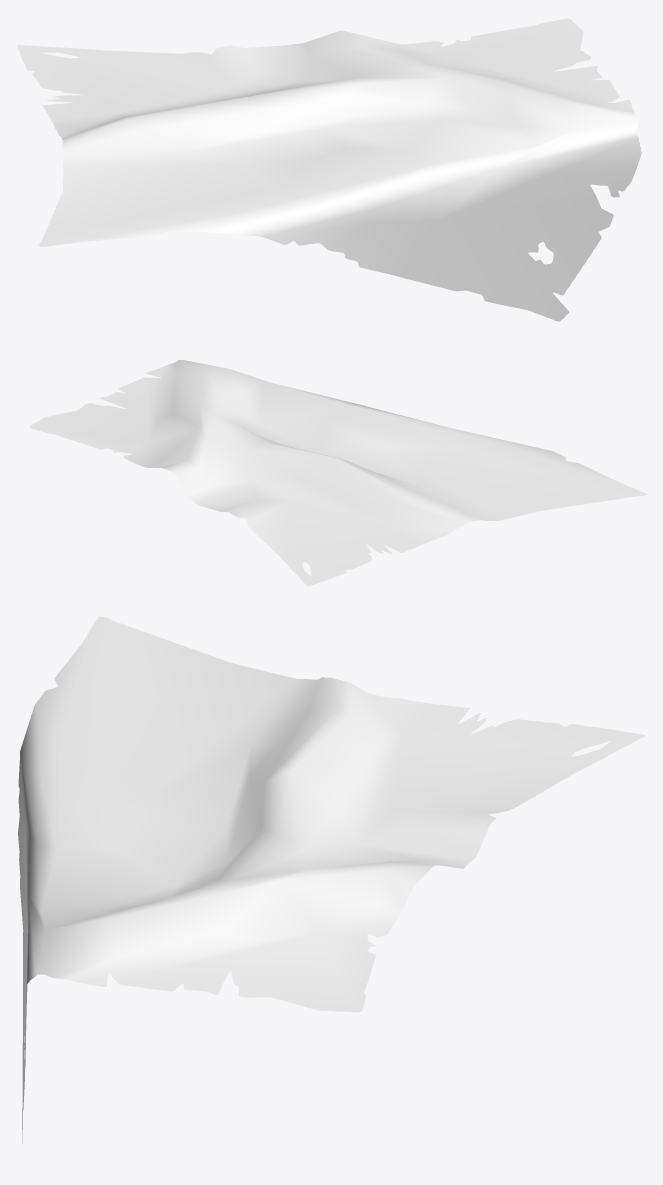
File: SM_Prop_Cover_01.fbx
3 renders of one model, top to bottom at view 1: azimuth 30°, elevation 25°; view 2: azimuth 150°, elevation 25°; view 3: azimuth 270°, elevation 25°, orthographic. The views are drawn at different scales.
Parts seen in each view (by area): view 1: SM_Prop_Cover_01; view 2: SM_Prop_Cover_01; view 3: SM_Prop_Cover_01.
Boxes of the visible parts, x1,y1,x2,y2 form: SM_Prop_Cover_01: [17, 18, 641, 321]; SM_Prop_Cover_01: [29, 360, 647, 586]; SM_Prop_Cover_01: [18, 616, 645, 1143].
Bounding box in the file's own units: 460 × 142 × 303.
